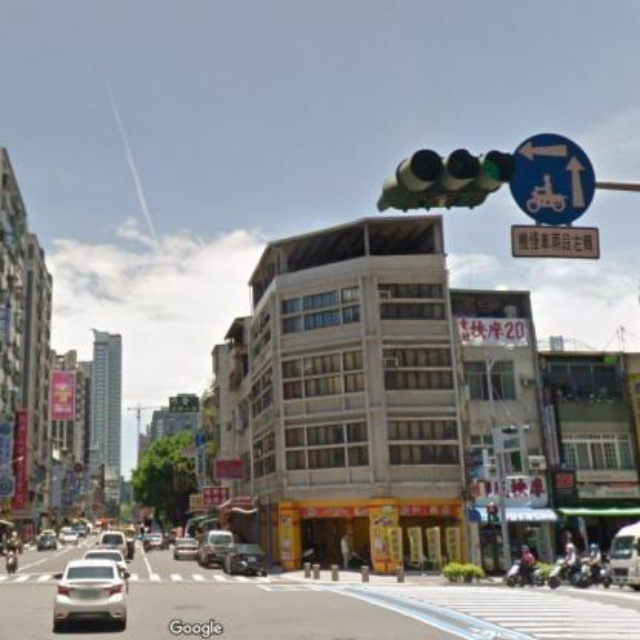Đèn xanh: (400, 142, 511, 193)
